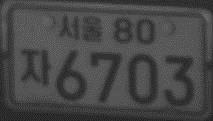0: (126, 51, 160, 106), (135, 17, 155, 45)
3: (162, 53, 195, 108)
6: (54, 50, 87, 101)
7: (89, 50, 123, 104)
8: (113, 16, 133, 44)
서울_H: (58, 14, 104, 42)
자: (20, 47, 52, 88)
